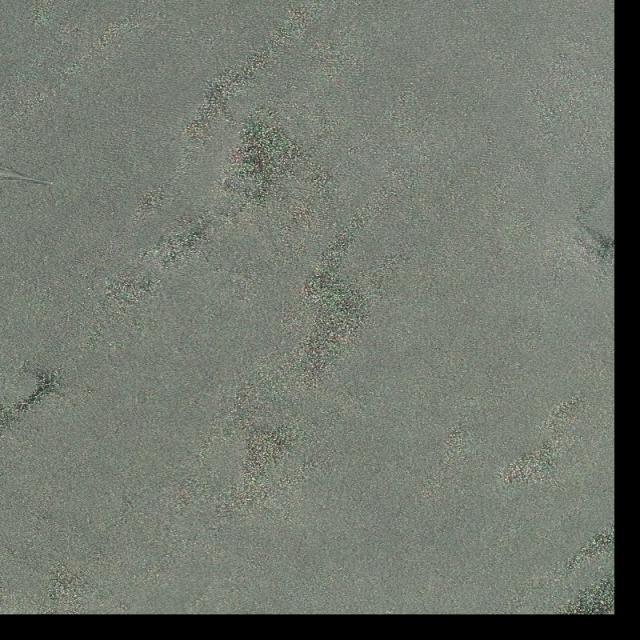ship: (50, 182, 54, 185)
